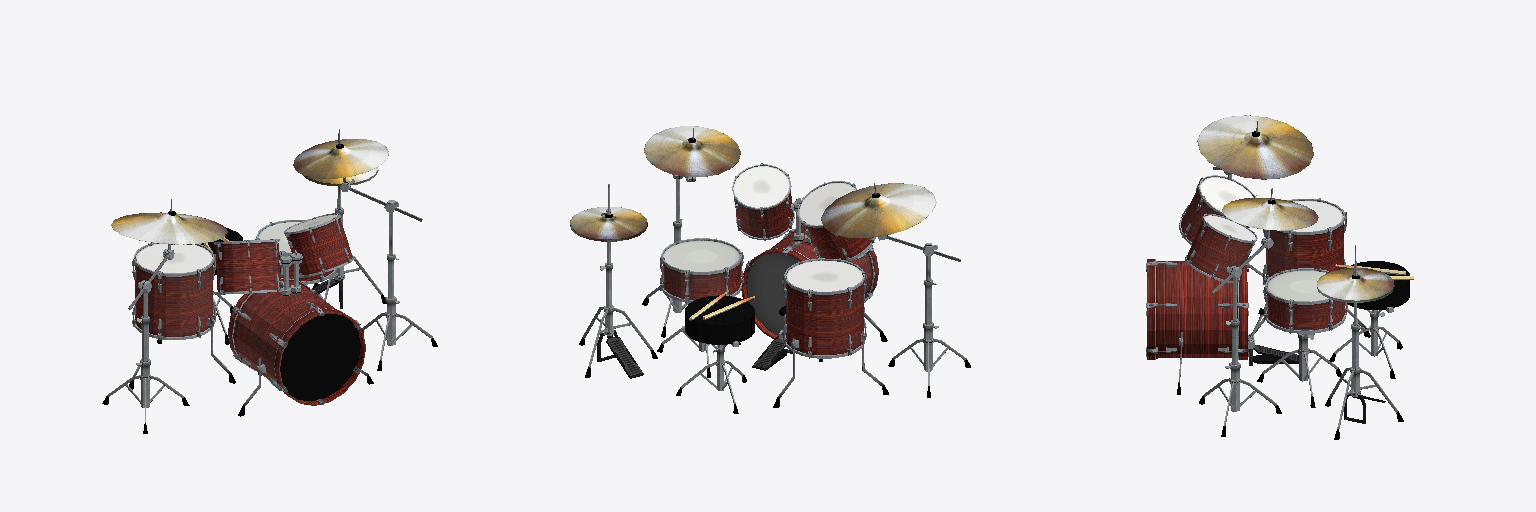
3 renders of one model, left to right at view 1: azimuth 30°, elevation 25°; view 2: azimuth 150°, elevation 25°; view 3: azimuth 270°, elevation 25°, orthographic.
Visible parts, largest first — view 1: DKFYB_Material_#24_0; view 2: DKFYB_Material_#24_0; view 3: DKFYB_Material_#24_0.
Boxes of the visible parts, <box> form: DKFYB_Material_#24_0: <box>102,129,437,433</box>; DKFYB_Material_#24_0: <box>570,126,970,413</box>; DKFYB_Material_#24_0: <box>1146,115,1413,439</box>.
Bounding box in the file's own units: 1.51 × 0.9523 × 1.09.
Materials: 1 (1 with a texture image).